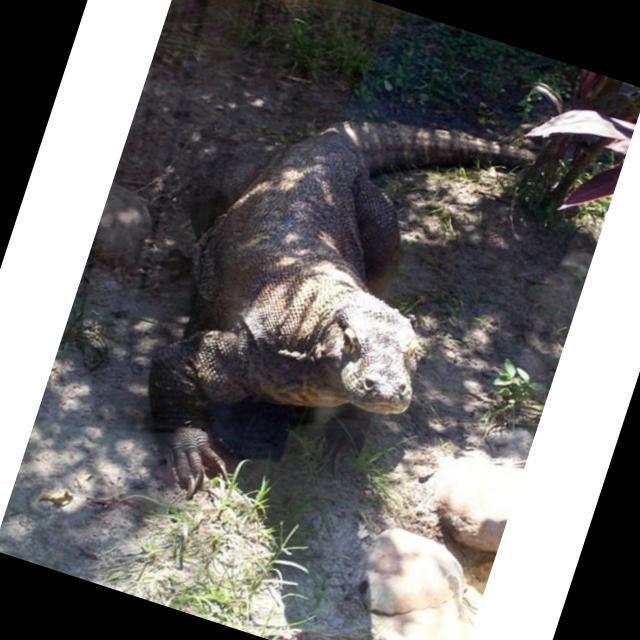KomodoDragon: (122, 58, 542, 560)
